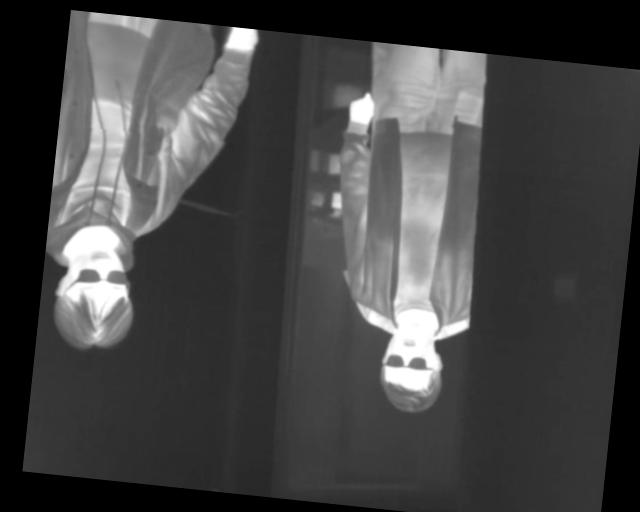face: (48, 237, 139, 355), (376, 318, 447, 413)
